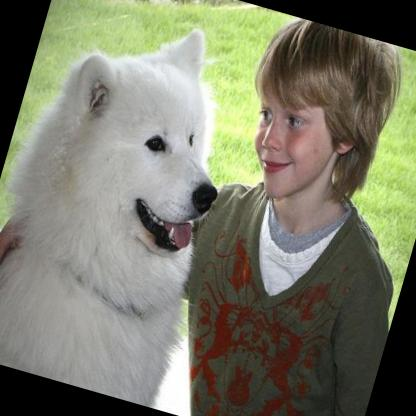Samoyed: (0, 0, 264, 408)
